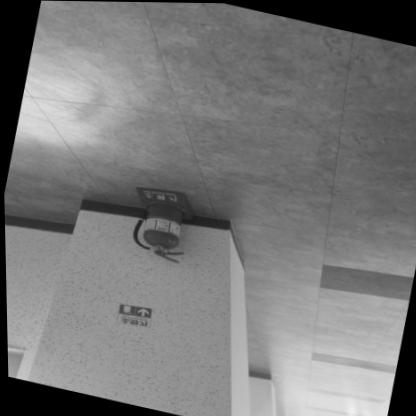FE: (123, 180, 198, 262)
